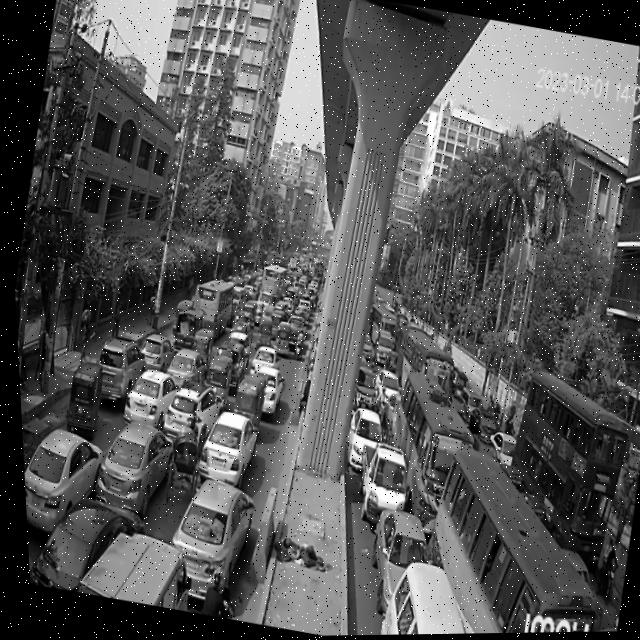cng: (54, 356, 106, 447), (224, 370, 269, 437), (189, 350, 234, 415), (246, 309, 274, 356), (268, 316, 292, 359)
rikshaw: (156, 413, 208, 507)
